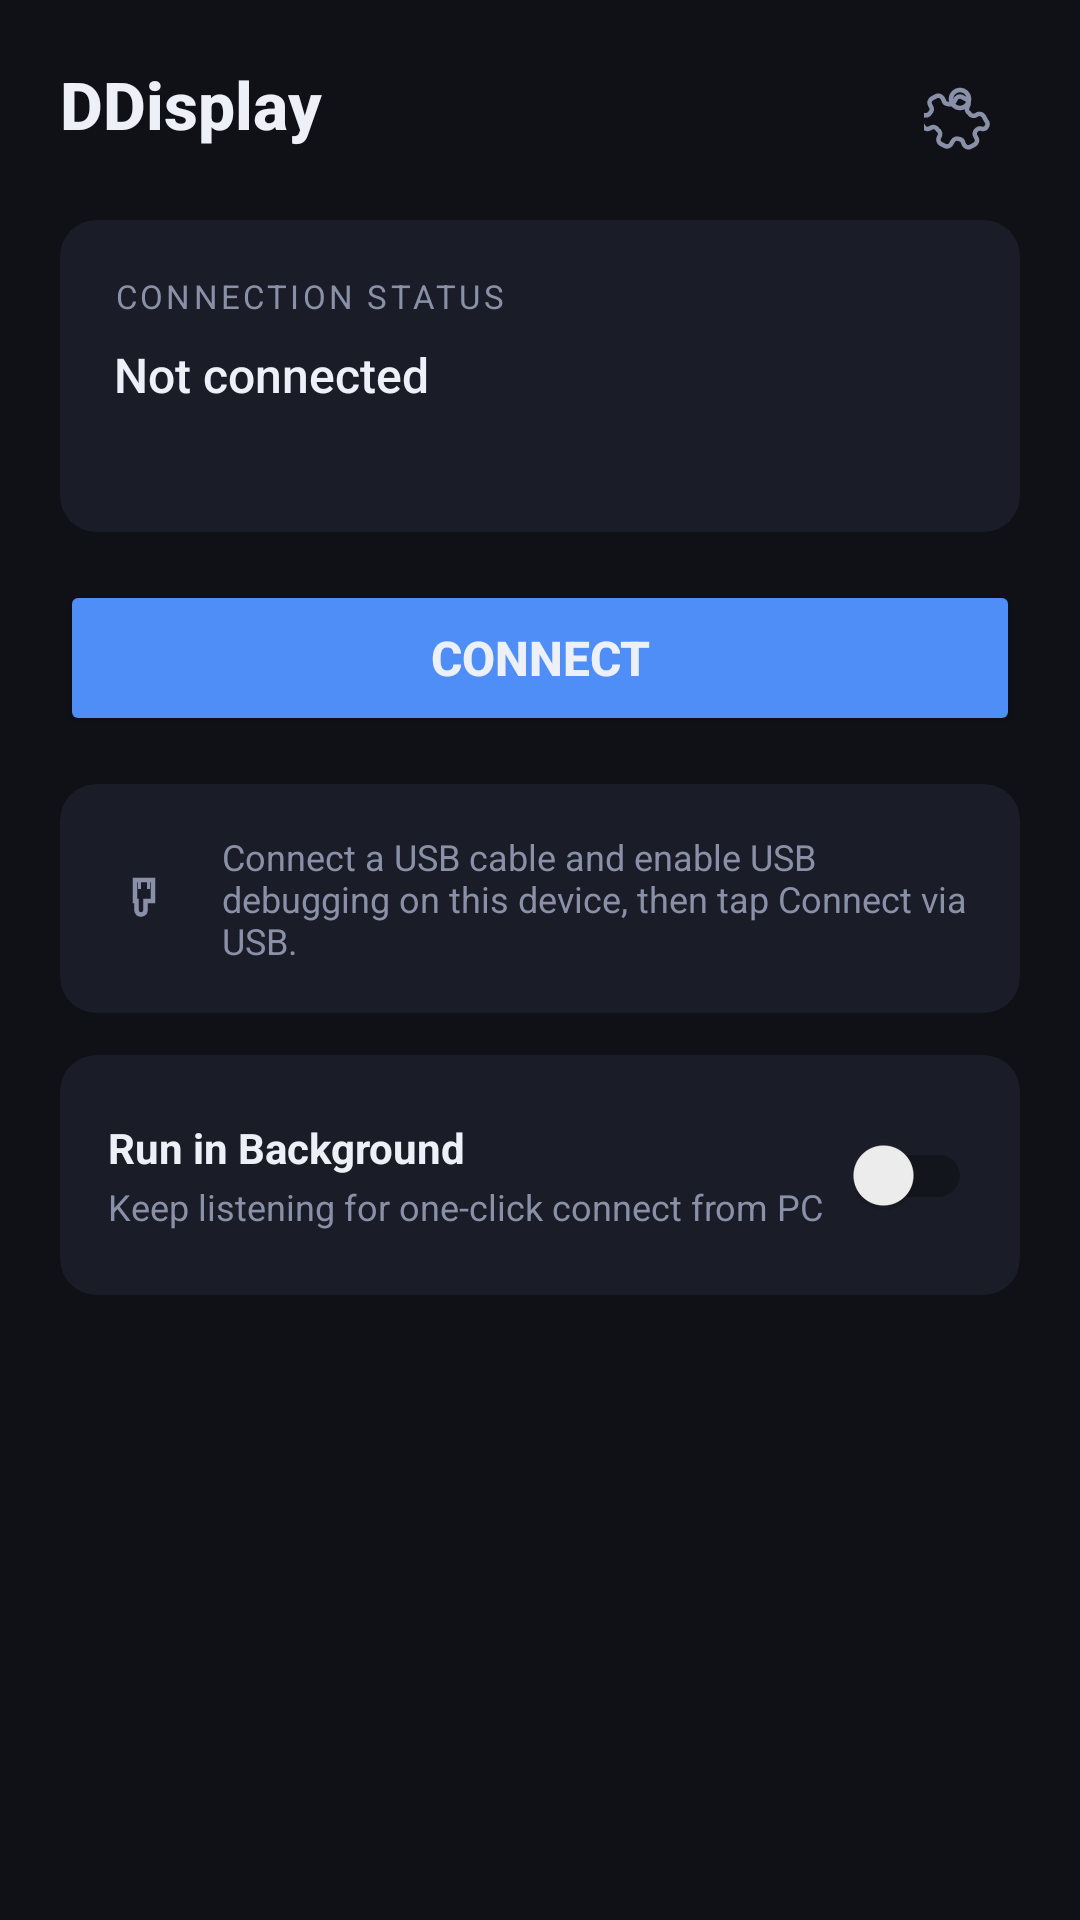

Point at icon controls on the screen. Image size 1080x1920, points as (x=x, y=y).
Settings: (x=957, y=118)
